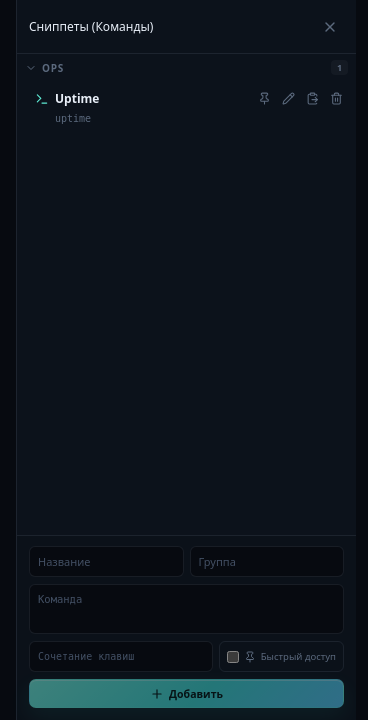
Test: SnippetsPanel › редактирует существующий сниппет
Step 1. Click the button named "Редактировать" → (288, 98), box [277, 87, 300, 110]
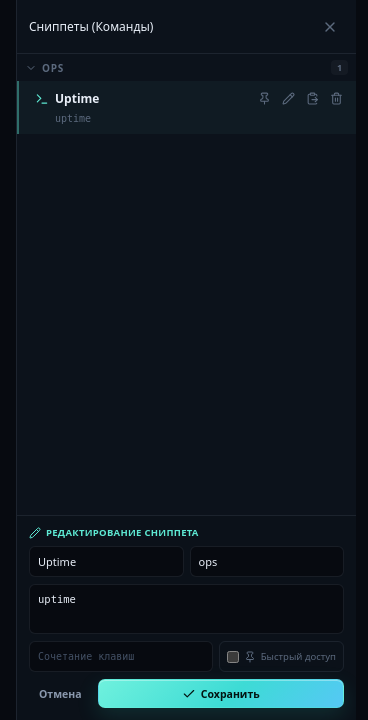
Expected: the text "Редактирование сниппета" is shown, [29, 526, 199, 539]
Expected: the 1st field with placeholder "Название" holds "Uptime"
Step 2. Replace the text in the 1st field with placeholder "Название" with "Ping" → (106, 562), box [29, 546, 184, 577]
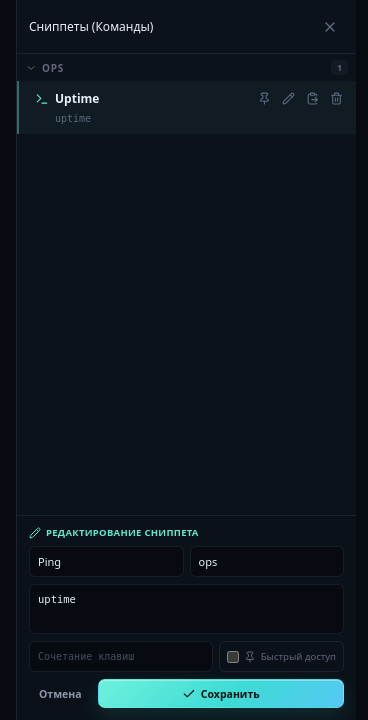
Step 3. Click the button "Сохранить" → (221, 694), box [98, 679, 344, 708]
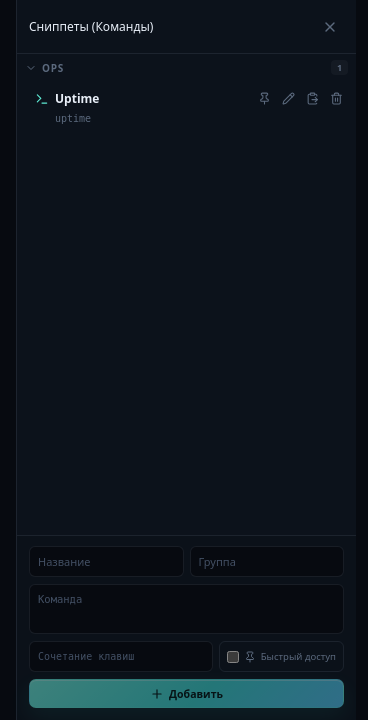
Expected: the text "Редактирование сниппета" is gone
